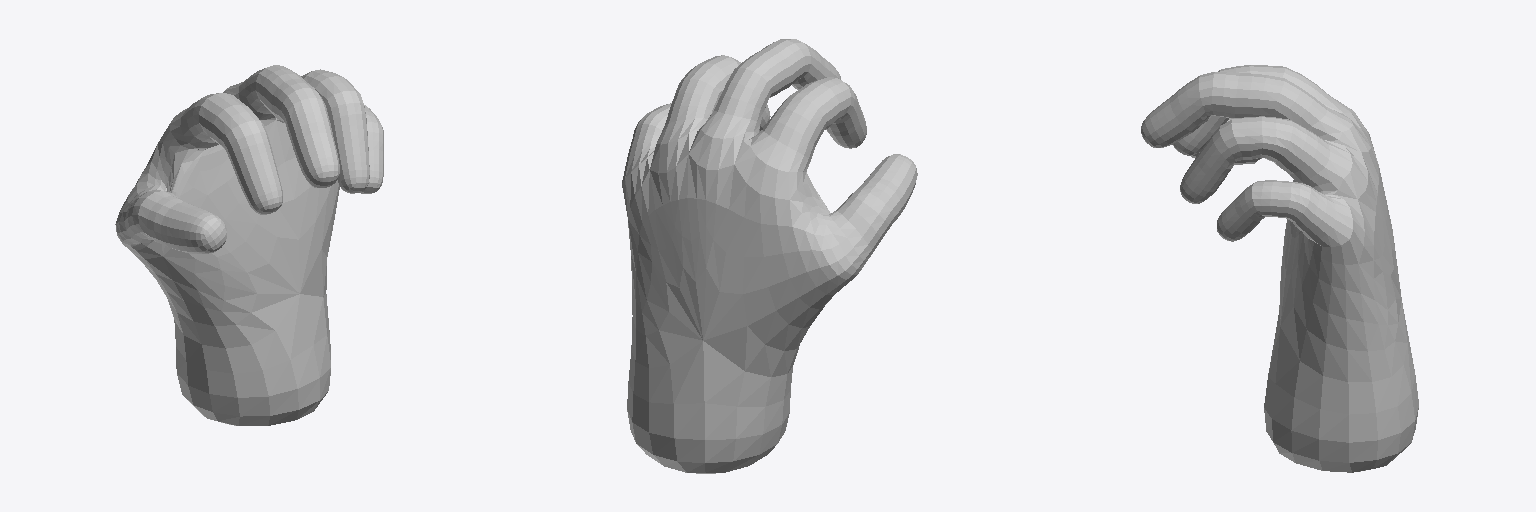
Rendered from handanimatsion44.obj.
3 renders of one model, left to right at view 1: azimuth 30°, elevation 25°; view 2: azimuth 150°, elevation 25°; view 3: azimuth 270°, elevation 25°, orthographic.
Parts seen in each view (by area): view 1: Cube; view 2: Cube; view 3: Cube.
Part boxes in pixels (left/top/right/bottom): Cube: left=115, top=65, right=383, bottom=425; Cube: left=622, top=39, right=917, bottom=473; Cube: left=1141, top=65, right=1418, bottom=472.
Size of the model in its own units: 3.2 by 4.74 by 3.17.